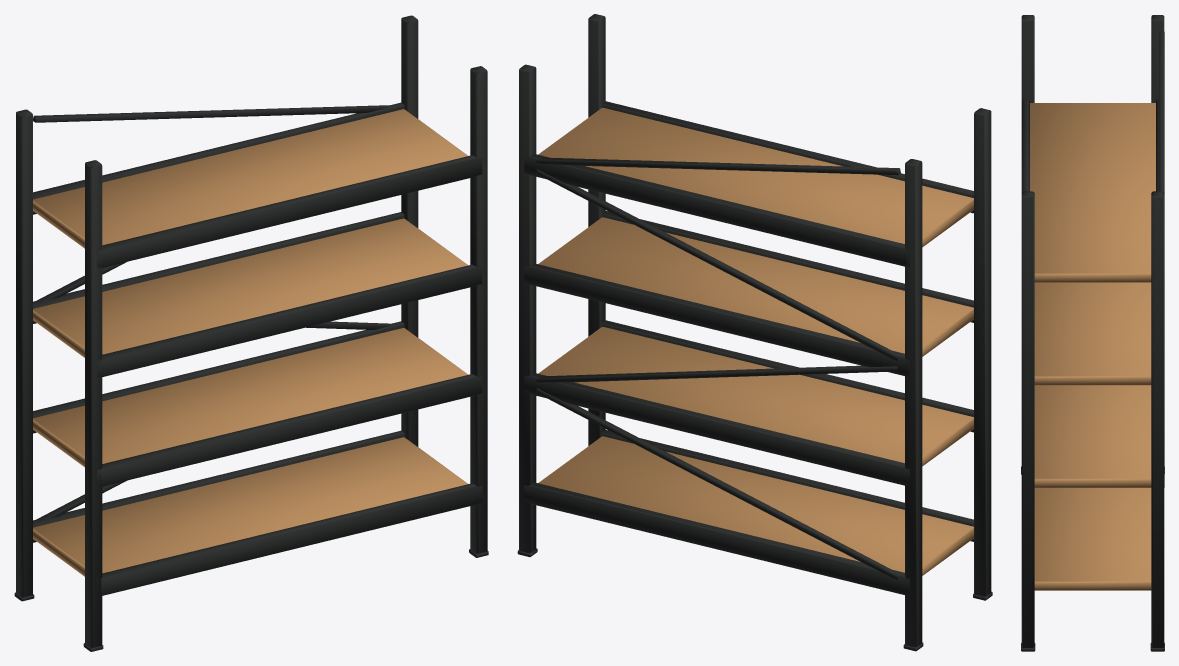
Rendered from asset_064_stockroom_shelving_system.glb.
3 renders of one model, left to right at view 1: azimuth 30°, elevation 25°; view 2: azimuth 150°, elevation 25°; view 3: azimuth 270°, elevation 25°, orthographic. The views are drawn at different scales.
Visible parts, largest first — view 1: MESH_AdjustableShelfDeckSet, MESH_ShelfLipSet, MESH_ShelvingUprightSet, MESH_RearCrossBraceSet; view 2: MESH_AdjustableShelfDeckSet, MESH_ShelfLipSet, MESH_ShelvingUprightSet, MESH_RearCrossBraceSet; view 3: MESH_AdjustableShelfDeckSet, MESH_ShelvingUprightSet, MESH_RearCrossBraceSet, MESH_ShelfLipSet.
Part boxes in pixels (x1,y1,x2,y2): MESH_AdjustableShelfDeckSet: (33,109,468,576); MESH_ShelfLipSet: (33,102,482,595); MESH_ShelvingUprightSet: (16,15,487,647); MESH_RearCrossBraceSet: (33,105,391,520); MESH_AdjustableShelfDeckSet: (538,107,973,575); MESH_ShelfLipSet: (524,101,973,595); MESH_ShelvingUprightSet: (519,14,991,647); MESH_RearCrossBraceSet: (536,157,900,580); MESH_AdjustableShelfDeckSet: (1030,103,1155,590); MESH_ShelvingUprightSet: (1021,15,1164,647); MESH_RearCrossBraceSet: (1159,31,1164,487); MESH_ShelfLipSet: (1021,99,1158,192).
Bounding box in the file's own units: 1.83 × 2.13 × 0.61.
